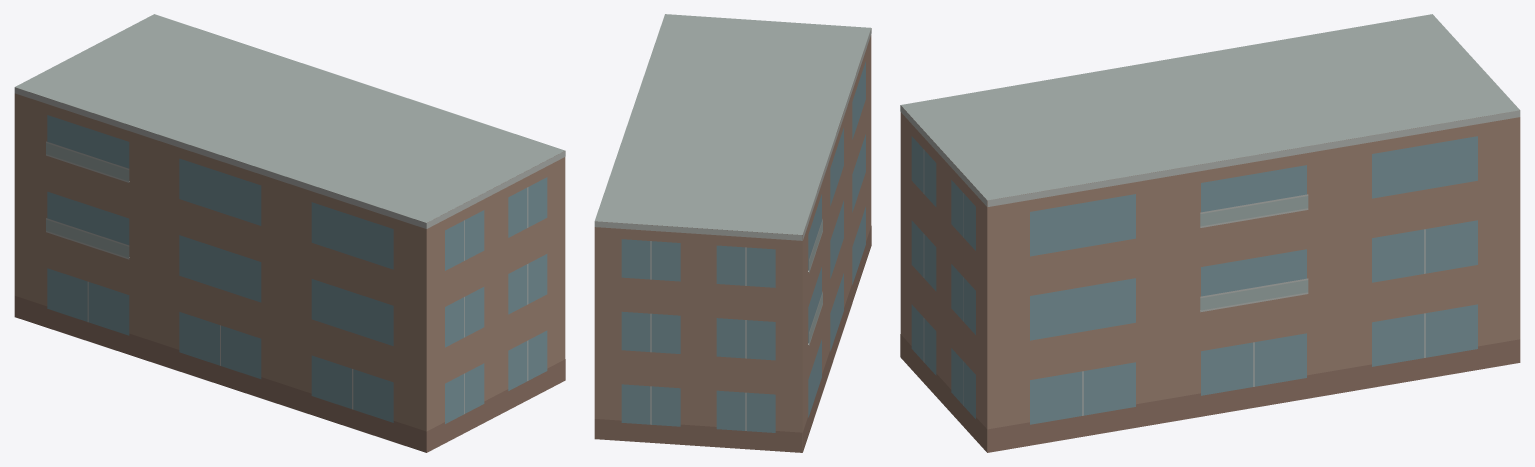
The model's file is survey-upis-33043809.glb.
3 renders of one model, left to right at view 1: azimuth 30°, elevation 25°; view 2: azimuth 150°, elevation 25°; view 3: azimuth 270°, elevation 25°, orthographic. The views are drawn at different scales.
Visible parts, largest first — view 1: survey-upis-33043809.tmp; view 2: survey-upis-33043809.tmp; view 3: survey-upis-33043809.tmp.
Boxes of the visible parts, x1,y1,x2,y2 form: survey-upis-33043809.tmp: (14, 14, 565, 452); survey-upis-33043809.tmp: (594, 14, 871, 452); survey-upis-33043809.tmp: (900, 14, 1520, 452).
Bounding box in the file's own units: 14.51 × 9.15 × 20.37.
